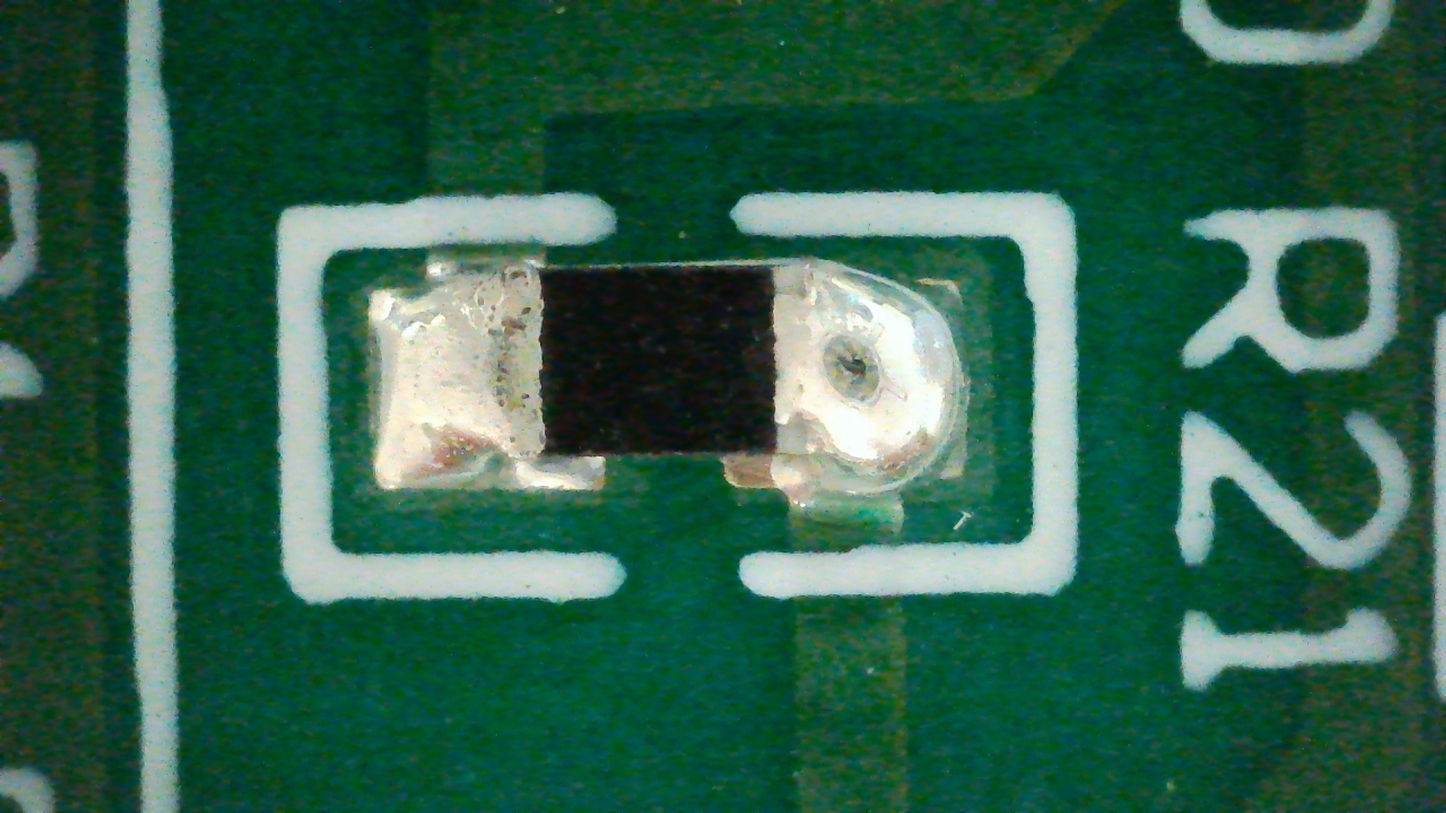OK: (375, 254, 964, 503)
